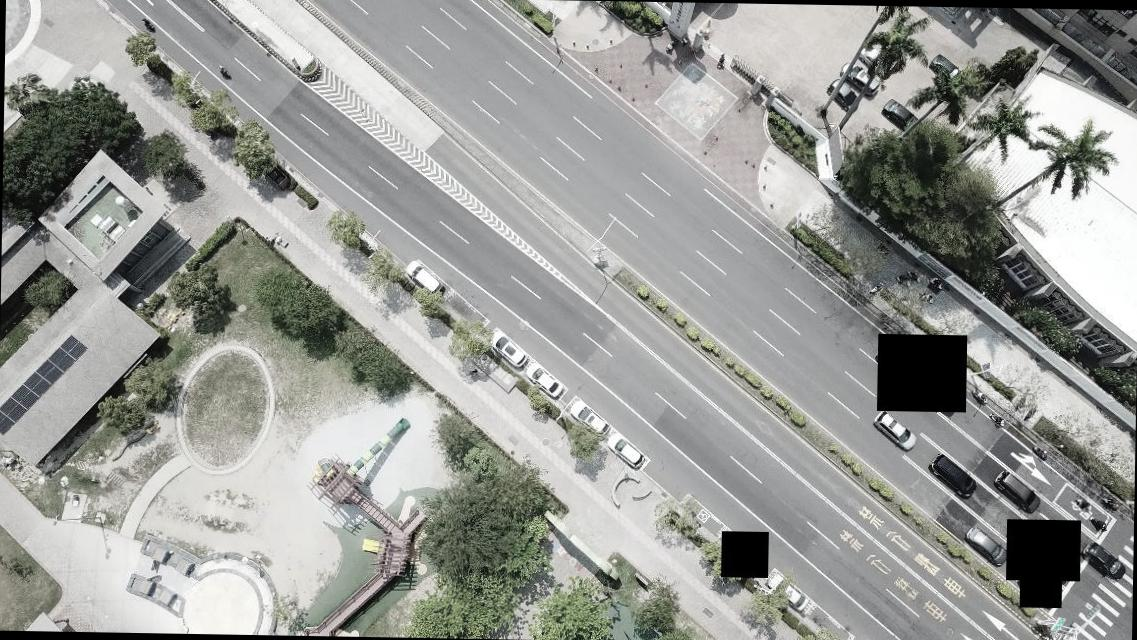vehicle: (930, 456, 980, 500), (1080, 542, 1128, 583), (841, 56, 884, 96), (967, 526, 1008, 567), (996, 470, 1038, 510), (874, 413, 918, 451), (522, 362, 564, 399), (486, 328, 526, 366), (765, 572, 807, 608), (608, 430, 645, 470), (407, 258, 445, 295), (881, 95, 914, 134), (569, 399, 606, 433), (824, 79, 860, 113), (857, 40, 892, 74), (927, 50, 962, 84)
